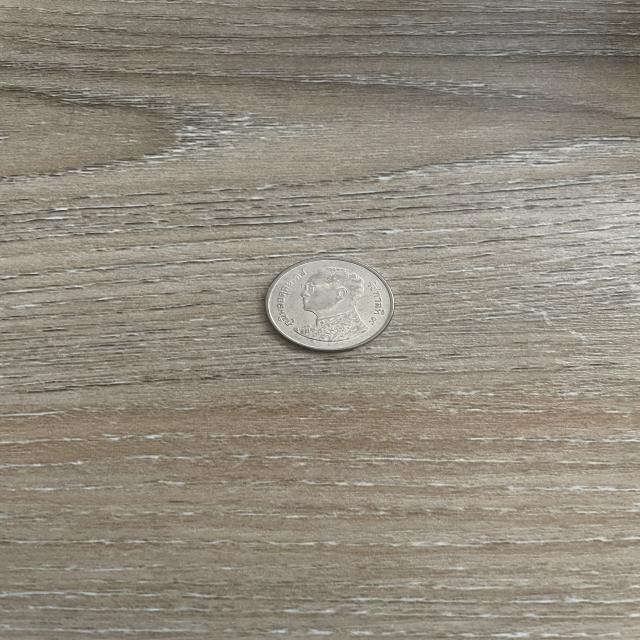1 Bath: (254, 250, 404, 362)
